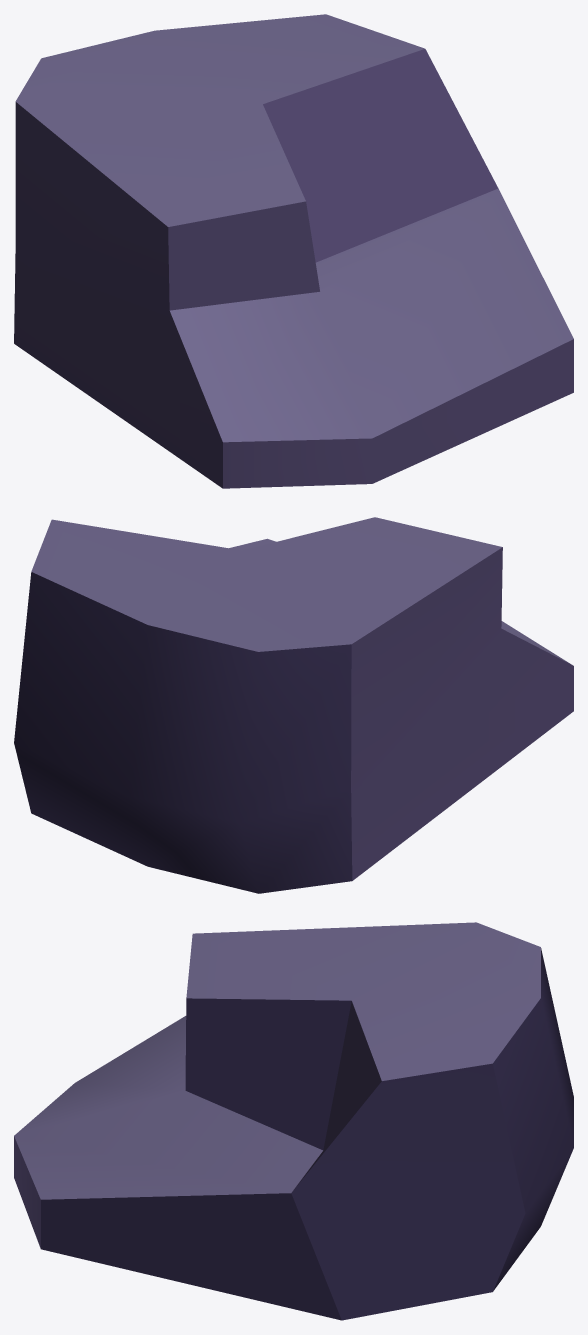
The model's file is rock1.fbx.
3 renders of one model, top to bottom at view 1: azimuth 30°, elevation 25°; view 2: azimuth 150°, elevation 25°; view 3: azimuth 270°, elevation 25°, orthographic. The views are drawn at different scales.
Parts seen in each view (by area): view 1: pCube49; view 2: pCube49; view 3: pCube49.
Part boxes in pixels (x1,y1,x2,y2): pCube49: (14,14,573,488); pCube49: (14,517,573,893); pCube49: (14,922,573,1320).
Bounding box in the file's own units: 97.76 × 58.9 × 131.
